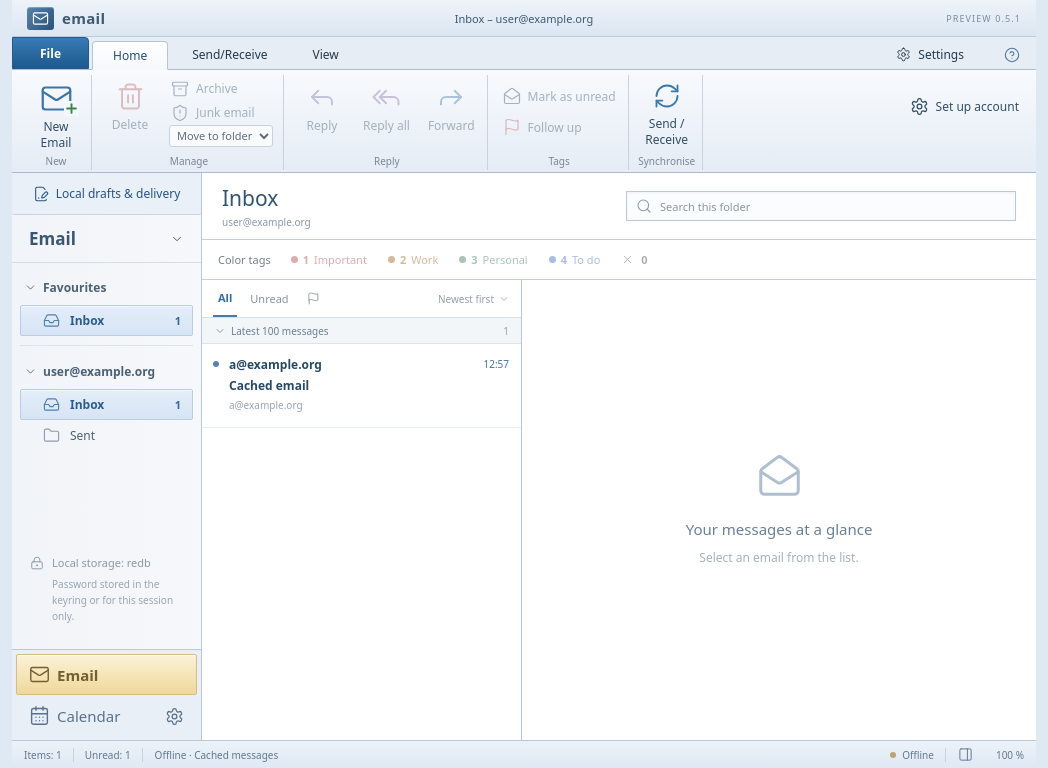
Test: numbered color tags › leaves the existing color intact when saving fails
Expected: the text "Cached email" is shown, left=229, top=377, right=309, bottom=394
Press F5
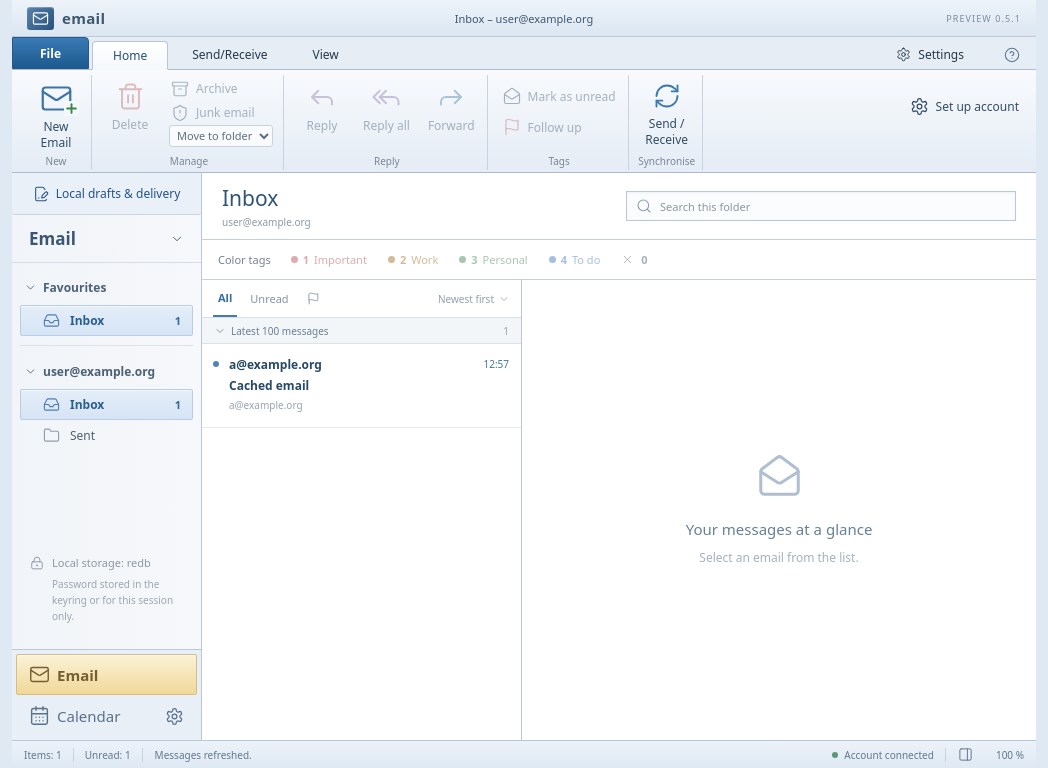
Expected: the text "Cached email" is shown once, left=229, top=377, right=309, bottom=394
Click the button "a@example.org 12:57 Cached email a@example.org": (275, 364) left=202, top=344, right=521, bottom=428
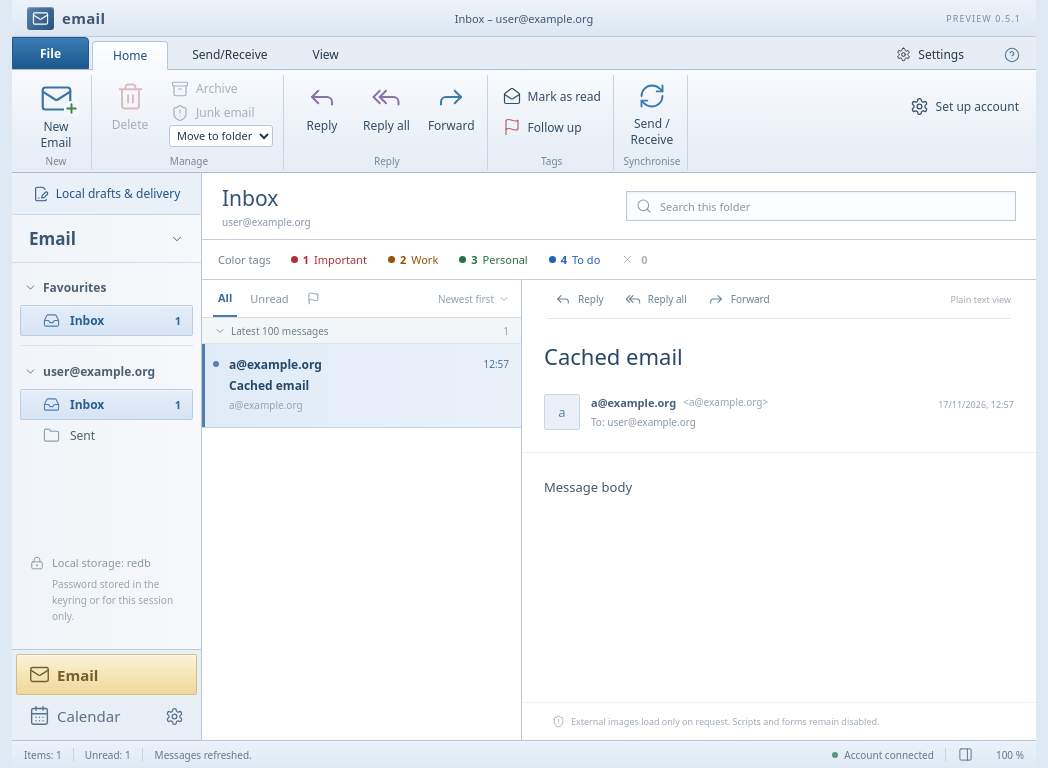
Result: the text "Message body" is shown at left=544, top=478, right=632, bottom=496
Click the button with aria-label "1: Important (Red)": (329, 260) left=283, top=247, right=375, bottom=272
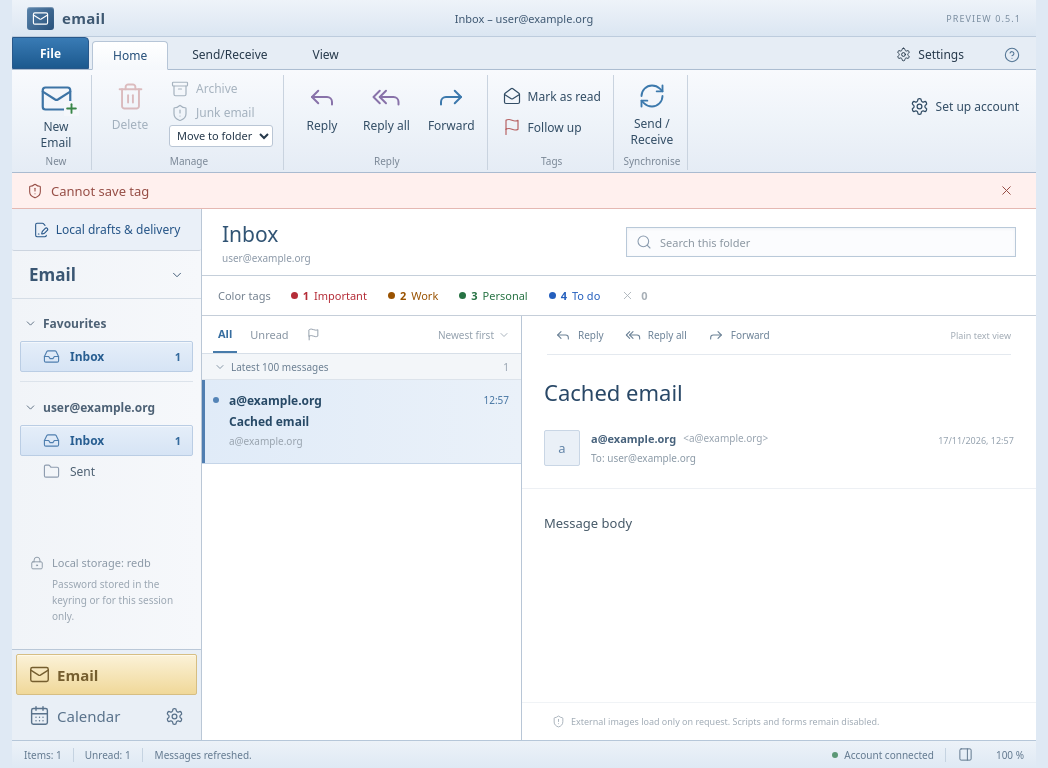
Result: the text "Cannot save tag" is shown at left=51, top=182, right=149, bottom=200
